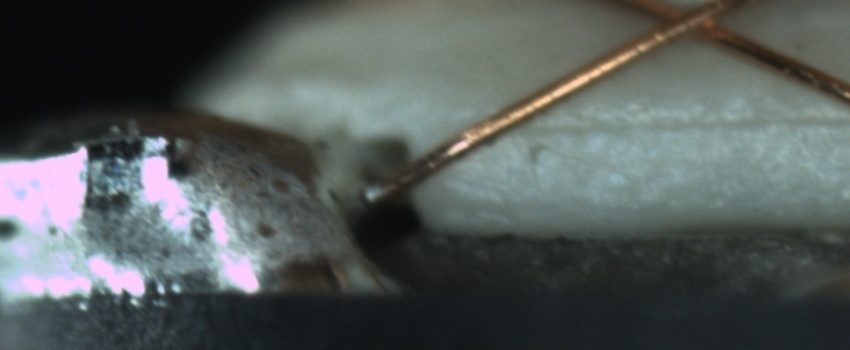CL: (635, 2, 749, 47)
DL: (465, 95, 849, 159)
